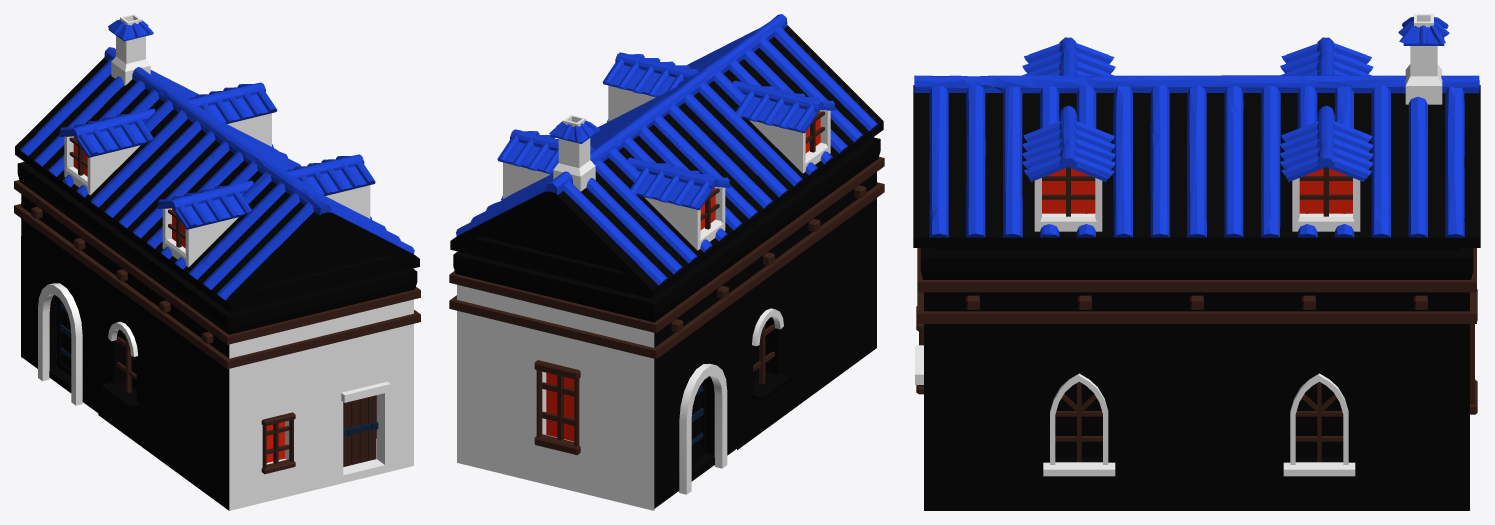
The model's file is civilian_house_38_e.FBX.
3 renders of one model, left to right at view 1: azimuth 30°, elevation 25°; view 2: azimuth 150°, elevation 25°; view 3: azimuth 270°, elevation 25°, orthographic. The views are drawn at different scales.
Visible parts, largest first — view 1: civilian_house_38_e; view 2: civilian_house_38_e; view 3: civilian_house_38_e.
Boxes of the visible parts, bbox=[...] form: civilian_house_38_e: bbox=[14, 14, 420, 510]; civilian_house_38_e: bbox=[449, 14, 884, 510]; civilian_house_38_e: bbox=[913, 14, 1480, 510].
Size of the model in its own units: 571 by 877 by 1039.
